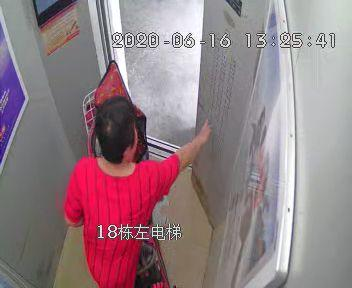Electric-bicycle: (80, 60, 168, 287)
